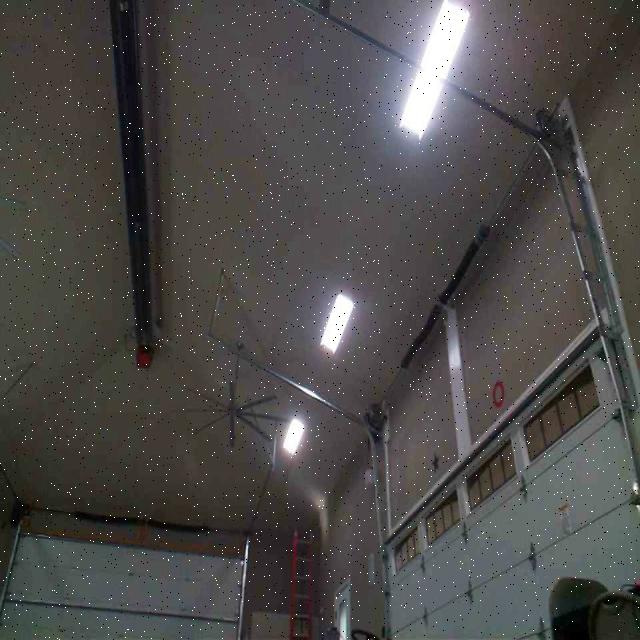ring_red: (492, 379, 505, 408)
star_black: (430, 451, 440, 474)
